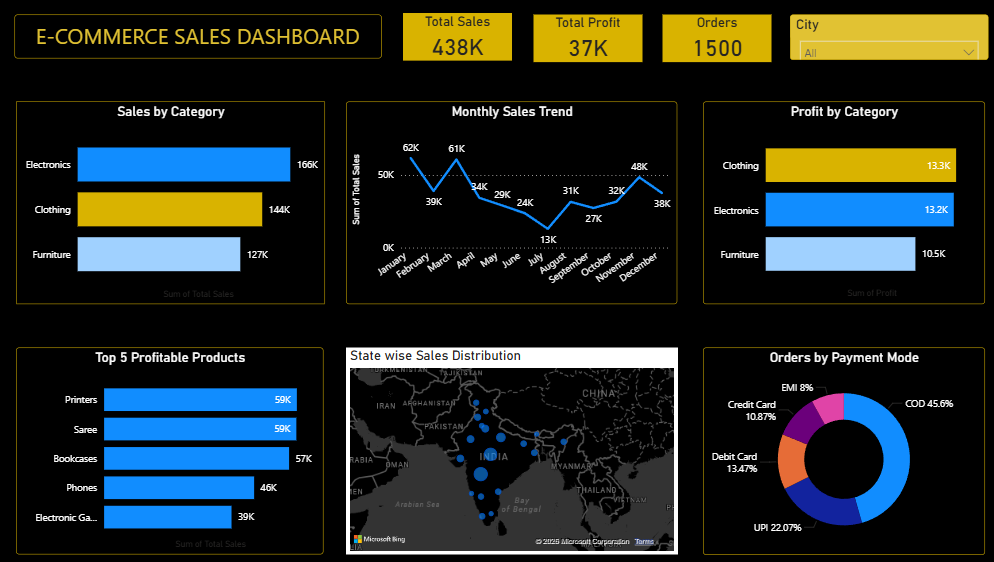

What the dashboard file says about the page in this screenshot:
{"tool":"powerbi","page":{"name":"Page 1","canvas":[1280,720],"ordinal":0},"visuals":[{"type":"textbox","box":[27.5,25,462.5,55],"z":0},{"type":"barChart","title":" Sales by Category","fields":{"Y":["Sum(Details.Total Sales)"],"Category":["Details.Category"]},"box":[30.2,134.2,389.3,255.1],"z":1000},{"type":"barChart","title":"Top 5 Profitable Products","fields":{"Category":["Details.Sub-Category"],"Y":["Sum(Details.Total Sales)"]},"box":[30.2,444.1,387.4,260.8],"z":2000},{"type":"lineChart","title":"Monthly Sales Trend","fields":{"Category":["Orders.Order Date.Variation.Date Hierarchy.Month"],"Y":["Sum(Details.Total Sales)"]},"box":[446,134.2,417.6,255.1],"z":3000},{"type":"card","title":"Total Sales","fields":{"Values":["Sum(Details.Total Sales)"]},"box":[517.5,22.5,137.5,60],"z":4000},{"type":"slicer","title":"City","fields":{"Values":["Orders.City"]},"box":[1005,25,250,57.5],"z":5000},{"type":"barChart","title":" Profit by Category","fields":{"Y":["Sum(Details.Profit)"],"Category":["Details.Category"]},"box":[895,135,355,255],"z":6000},{"type":"card","title":"Total Profit","fields":{"Values":["Sum(Details.Profit)"]},"box":[682.5,25,137.5,60],"z":7000},{"type":"card","title":"Orders","fields":{"Values":["CountNonNull(Details.Order ID)"]},"box":[845,25,137.5,60],"z":8000},{"type":"map","title":"State wise Sales Distribution","fields":{"Size":["Sum(Details.Total Sales)"],"Category":["Orders.State"]},"box":[446,444.1,417.6,260.8],"z":9000},{"type":"donutChart","title":" Orders by Payment Mode","fields":{"Y":["CountNonNull(Details.Order ID)"],"Category":["Details.PaymentMode"]},"box":[895,444,355,261],"z":10000}]}

Visuals, with their boxes in screenshot pixels (x1, y1, x2, y2), scaled from the page's 1280x720 canvas onto the 994x562 screenshot:
textbox: locate(21, 20, 381, 62)
" Sales by Category" barChart: locate(23, 105, 326, 304)
"Top 5 Profitable Products" barChart: locate(23, 347, 324, 550)
"Monthly Sales Trend" lineChart: locate(346, 105, 671, 304)
"Total Sales" card: locate(402, 18, 509, 64)
"City" slicer: locate(780, 20, 975, 64)
" Profit by Category" barChart: locate(695, 105, 971, 304)
"Total Profit" card: locate(530, 20, 637, 66)
"Orders" card: locate(656, 20, 763, 66)
"State wise Sales Distribution" map: locate(346, 347, 671, 550)
" Orders by Payment Mode" donutChart: locate(695, 347, 971, 550)
